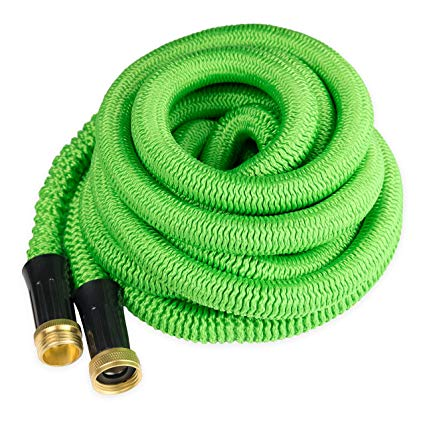Nonrec_Tangler: (12, 26, 395, 380)
